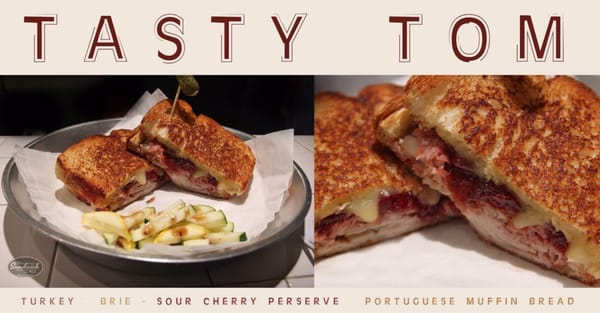soup: (374, 75, 600, 286), (314, 84, 461, 260), (126, 98, 256, 201), (54, 131, 168, 212)
